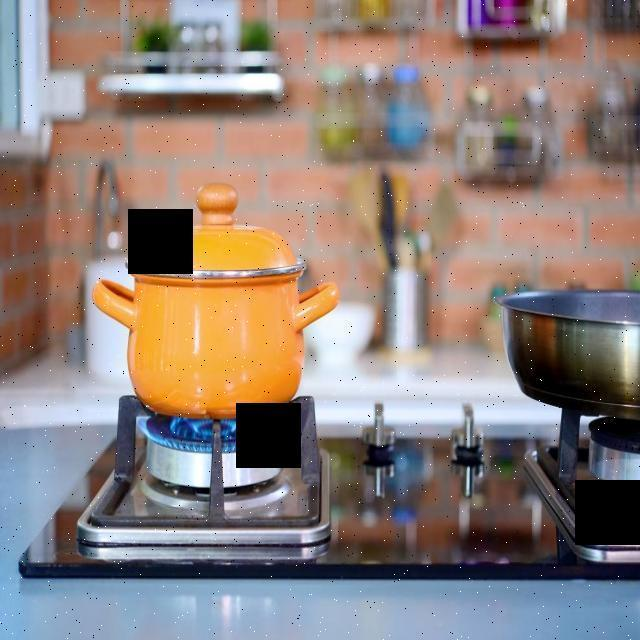Flame: (135, 404, 259, 462)
Pan: (83, 166, 426, 421), (496, 268, 640, 408)
